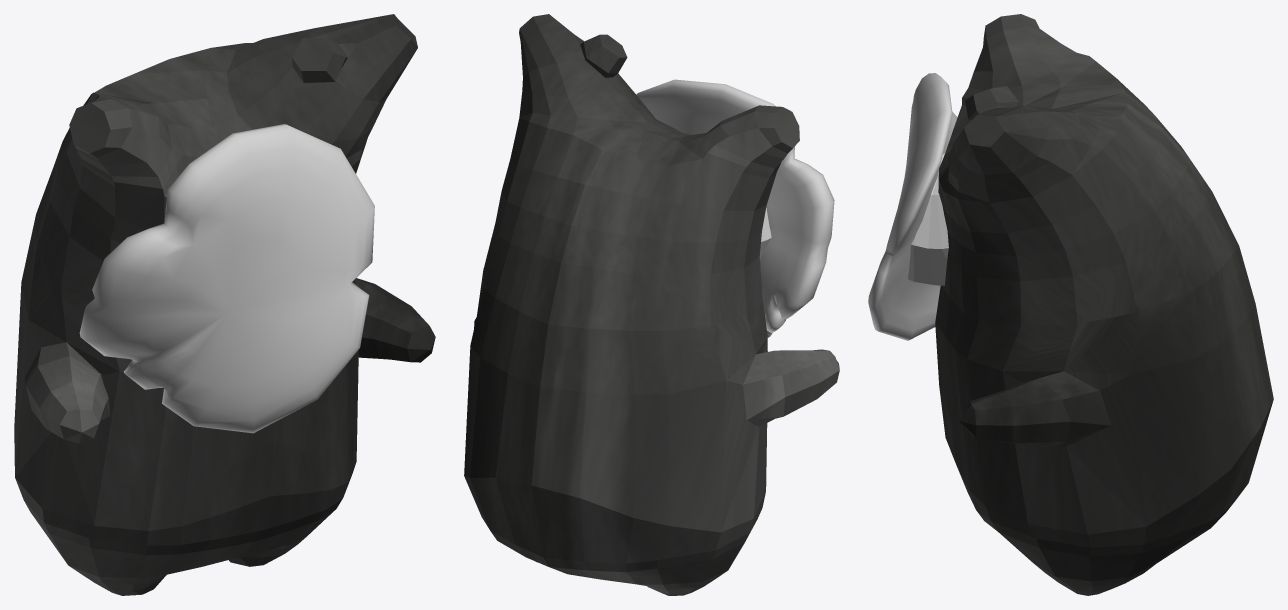
The model's file is frame_0010.obj.
The picture shows the model from 3 angles, left to right: view 1: azimuth 30°, elevation 25°; view 2: azimuth 150°, elevation 25°; view 3: azimuth 270°, elevation 25°; orthographic projection. The views are drawn at different scales.
Parts seen in each view (by area): view 1: korok, leaf; view 2: korok, leaf; view 3: korok, leaf, nose.
Part boxes in pixels (x1,y1,x2,y2): korok: [14, 14, 435, 595]; leaf: [79, 124, 374, 433]; korok: [464, 14, 839, 595]; leaf: [636, 79, 834, 337]; korok: [935, 14, 1273, 595]; leaf: [868, 73, 957, 340]; nose: [908, 153, 948, 285].
Bounding box in the file's own units: 1.43 × 2.05 × 1.46.
